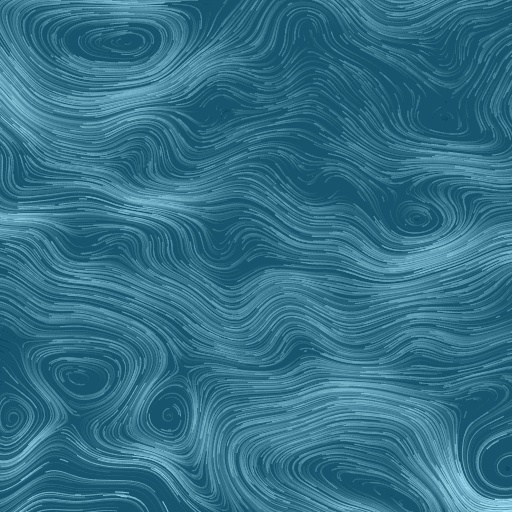eddy: (36, 7, 198, 90), (136, 382, 198, 445), (50, 356, 117, 401), (393, 201, 440, 233), (1, 396, 32, 439)
